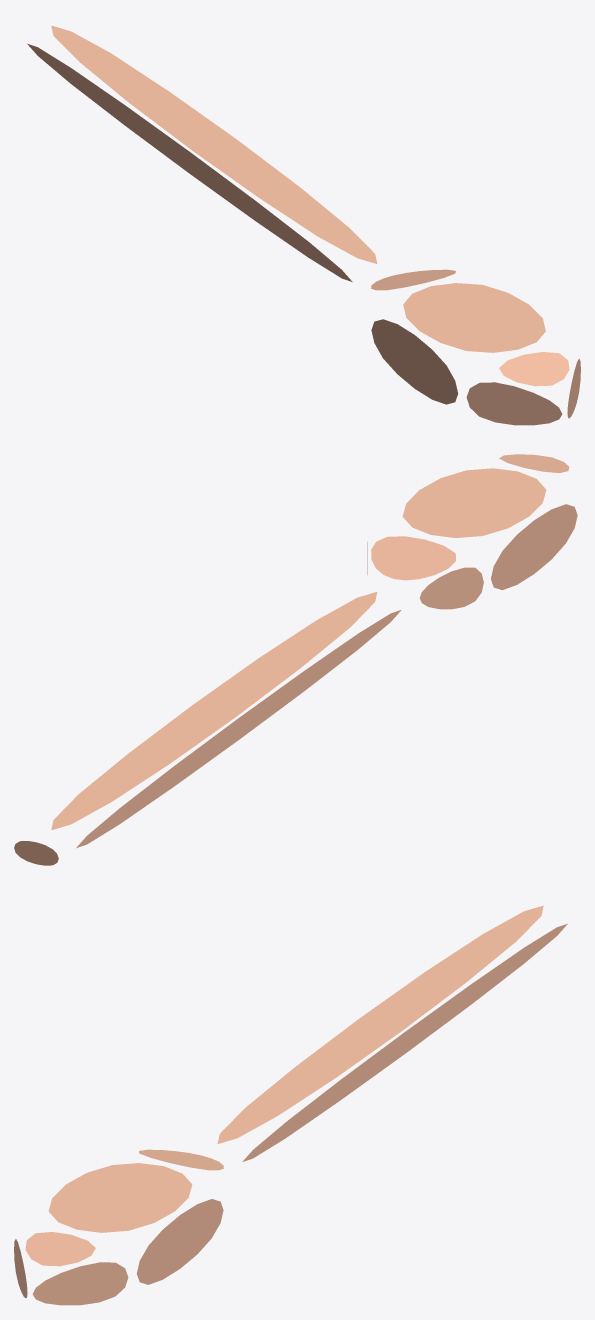
The model's file is canoe_paddle.glb.
3 views of the same model, one above another, from view 1: azimuth 30°, elevation 25°; view 2: azimuth 150°, elevation 25°; view 3: azimuth 330°, elevation 25° (orthographic).
Parts seen in each view (by area): view 1: canoe_paddle; view 2: canoe_paddle; view 3: canoe_paddle.
Part boxes in pixels (box(x1,y1,x2,y2)): canoe_paddle: box(27, 25, 580, 425); canoe_paddle: box(14, 454, 577, 865); canoe_paddle: box(14, 905, 567, 1305).
Bounding box in the file's own units: 0.0767 × 0.0361 × 0.5881.
